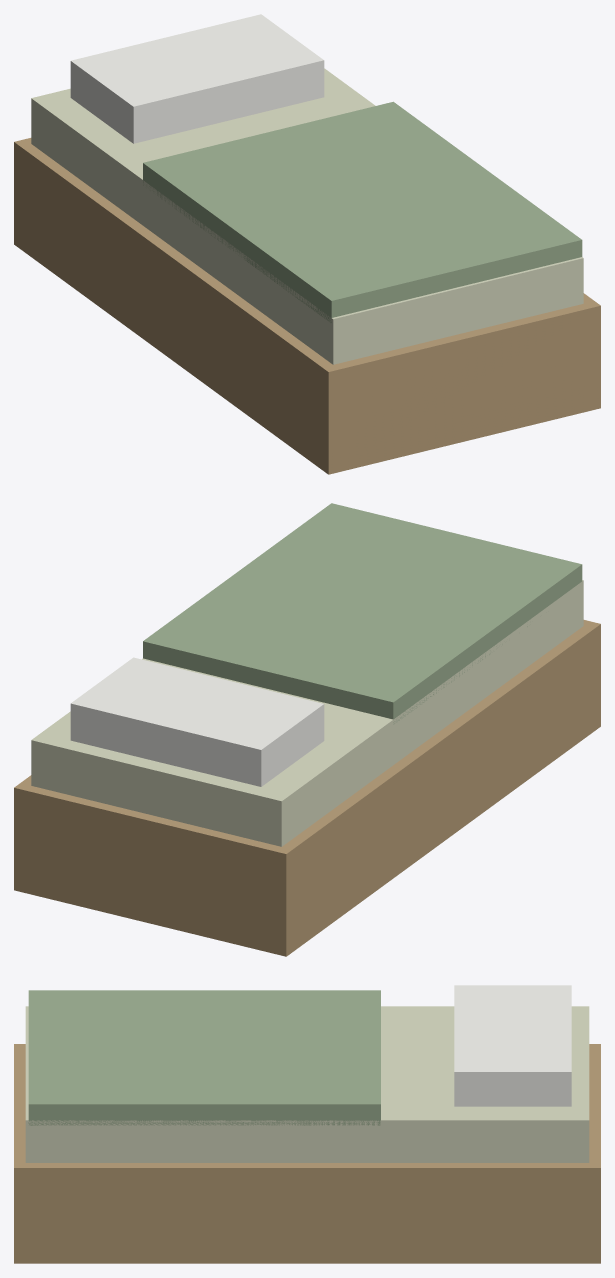
Rendered from Bed.glb.
3 views of the same model, one above another, from view 1: azimuth 30°, elevation 25°; view 2: azimuth 150°, elevation 25°; view 3: azimuth 270°, elevation 25° (orthographic). The views are drawn at different scales.
Parts seen in each view (by area): view 1: Bed; view 2: Bed; view 3: Bed.
Part boxes in pixels (x1=…): Bed: x1=14, y1=14, x2=600, y2=474; Bed: x1=14, y1=503, x2=600, y2=956; Bed: x1=14, y1=985, x2=600, y2=1263.
Size of the model in its own units: 1 by 0.65 by 2.
